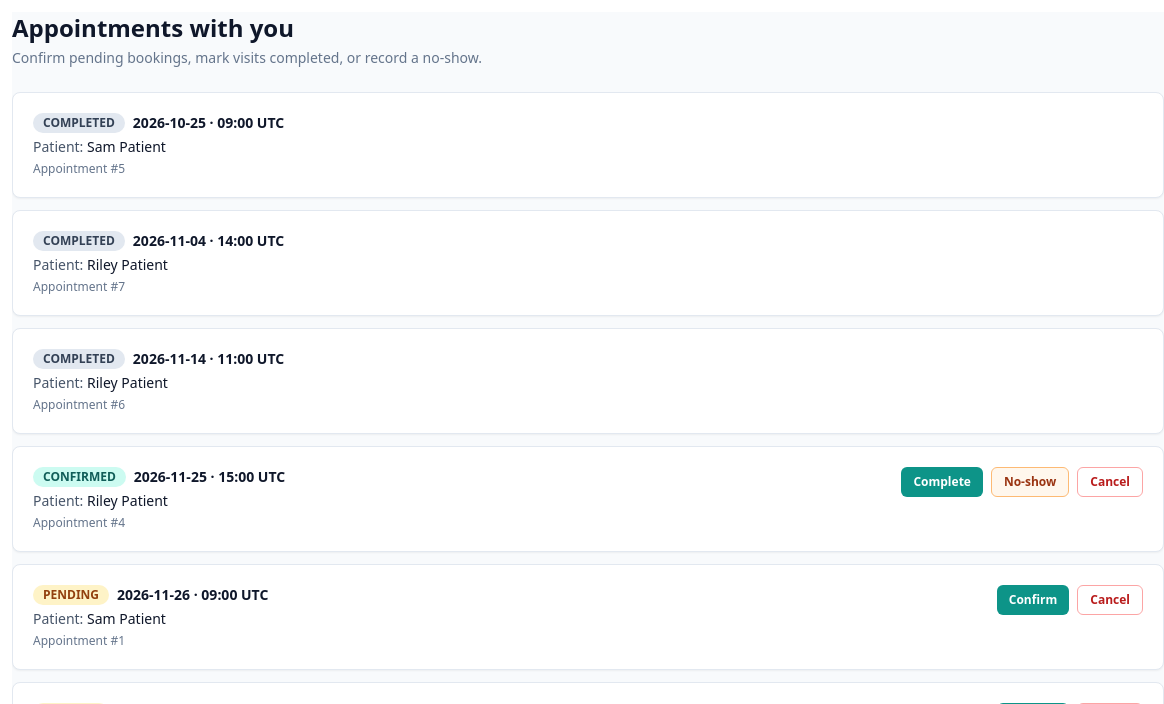
it: MyAppointmentsPage › lets a doctor record a no-show
What coordinates should you click on to do the following:
click the button with aria-label "mark appointment 4 no-show"
I would click on:
 (1030, 482)
Its box is [991,467,1069,497].
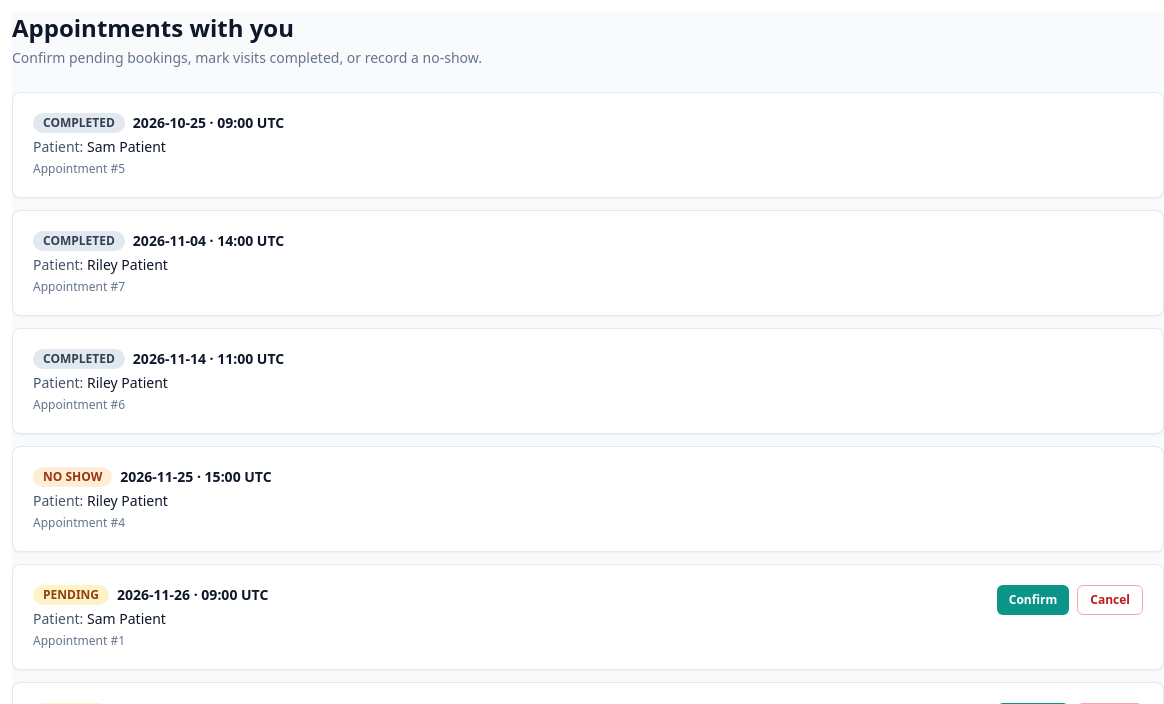
Result: the text "NO SHOW" is shown at [33,467,112,487]
